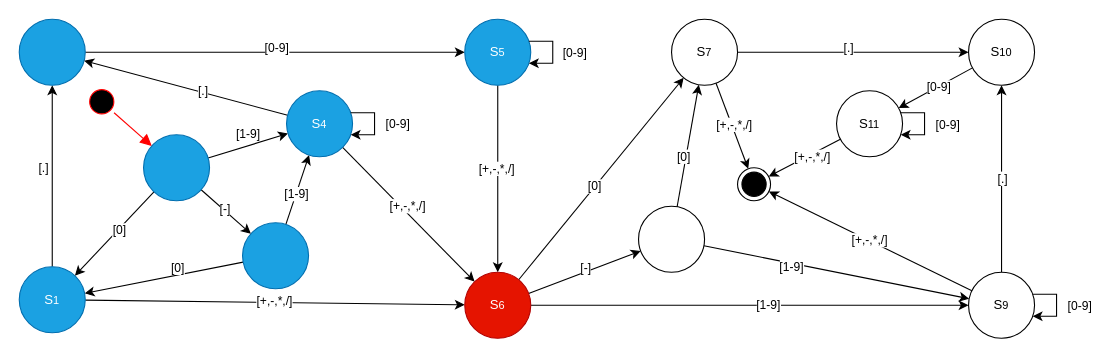
Some shapes in this 1110 by 358 pixel diagram are drawn without their labels. The shapes that lost their labels are listed below. From the top down, each one's centre as x and y in pixels, then its label:
At point 51,51: "S 3".
At point 176,167: "S 0".
At point 275,255: "S 2".
At point 671,238: "S 8".
